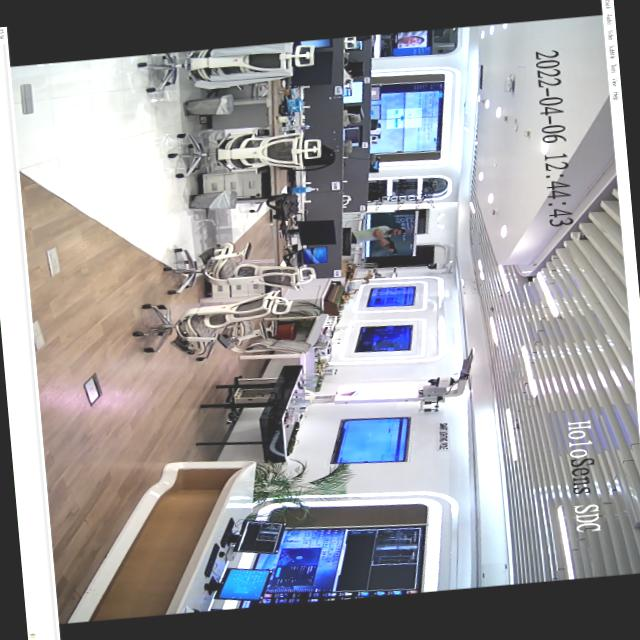long weapon: (379, 235, 399, 256)
